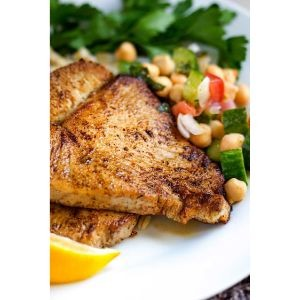tuna_brain food: (55, 49, 204, 237)
